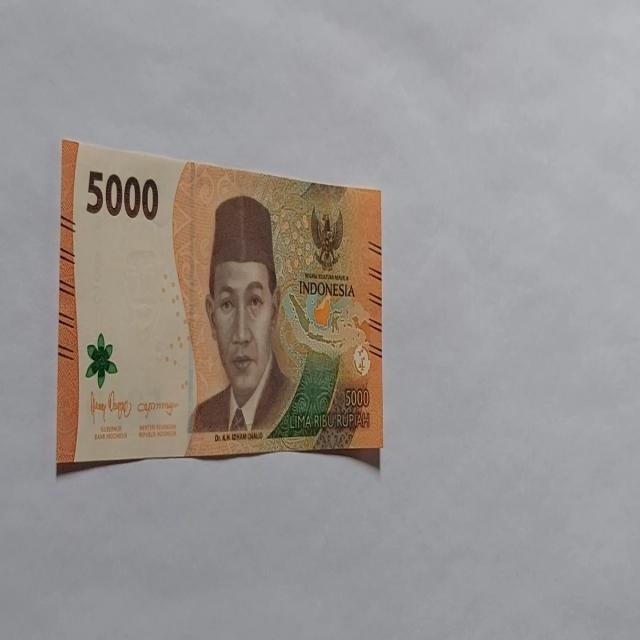lima ribu rupiah: (56, 137, 383, 473), (185, 194, 298, 442)
